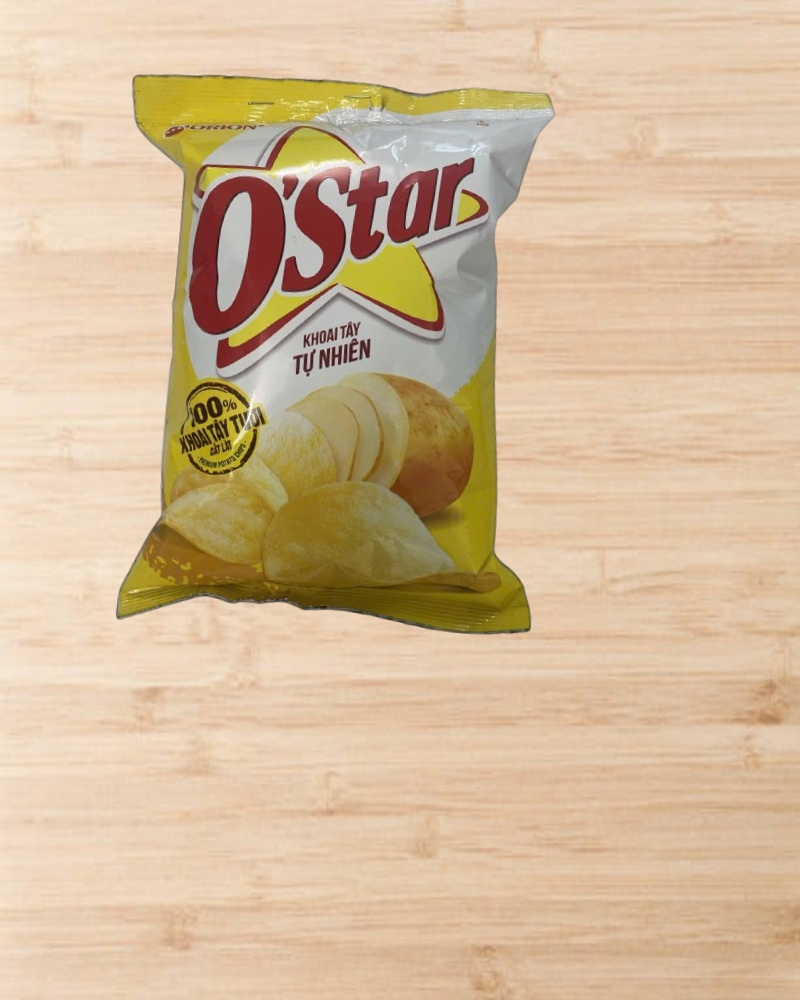O'star: (88, 58, 577, 655)
